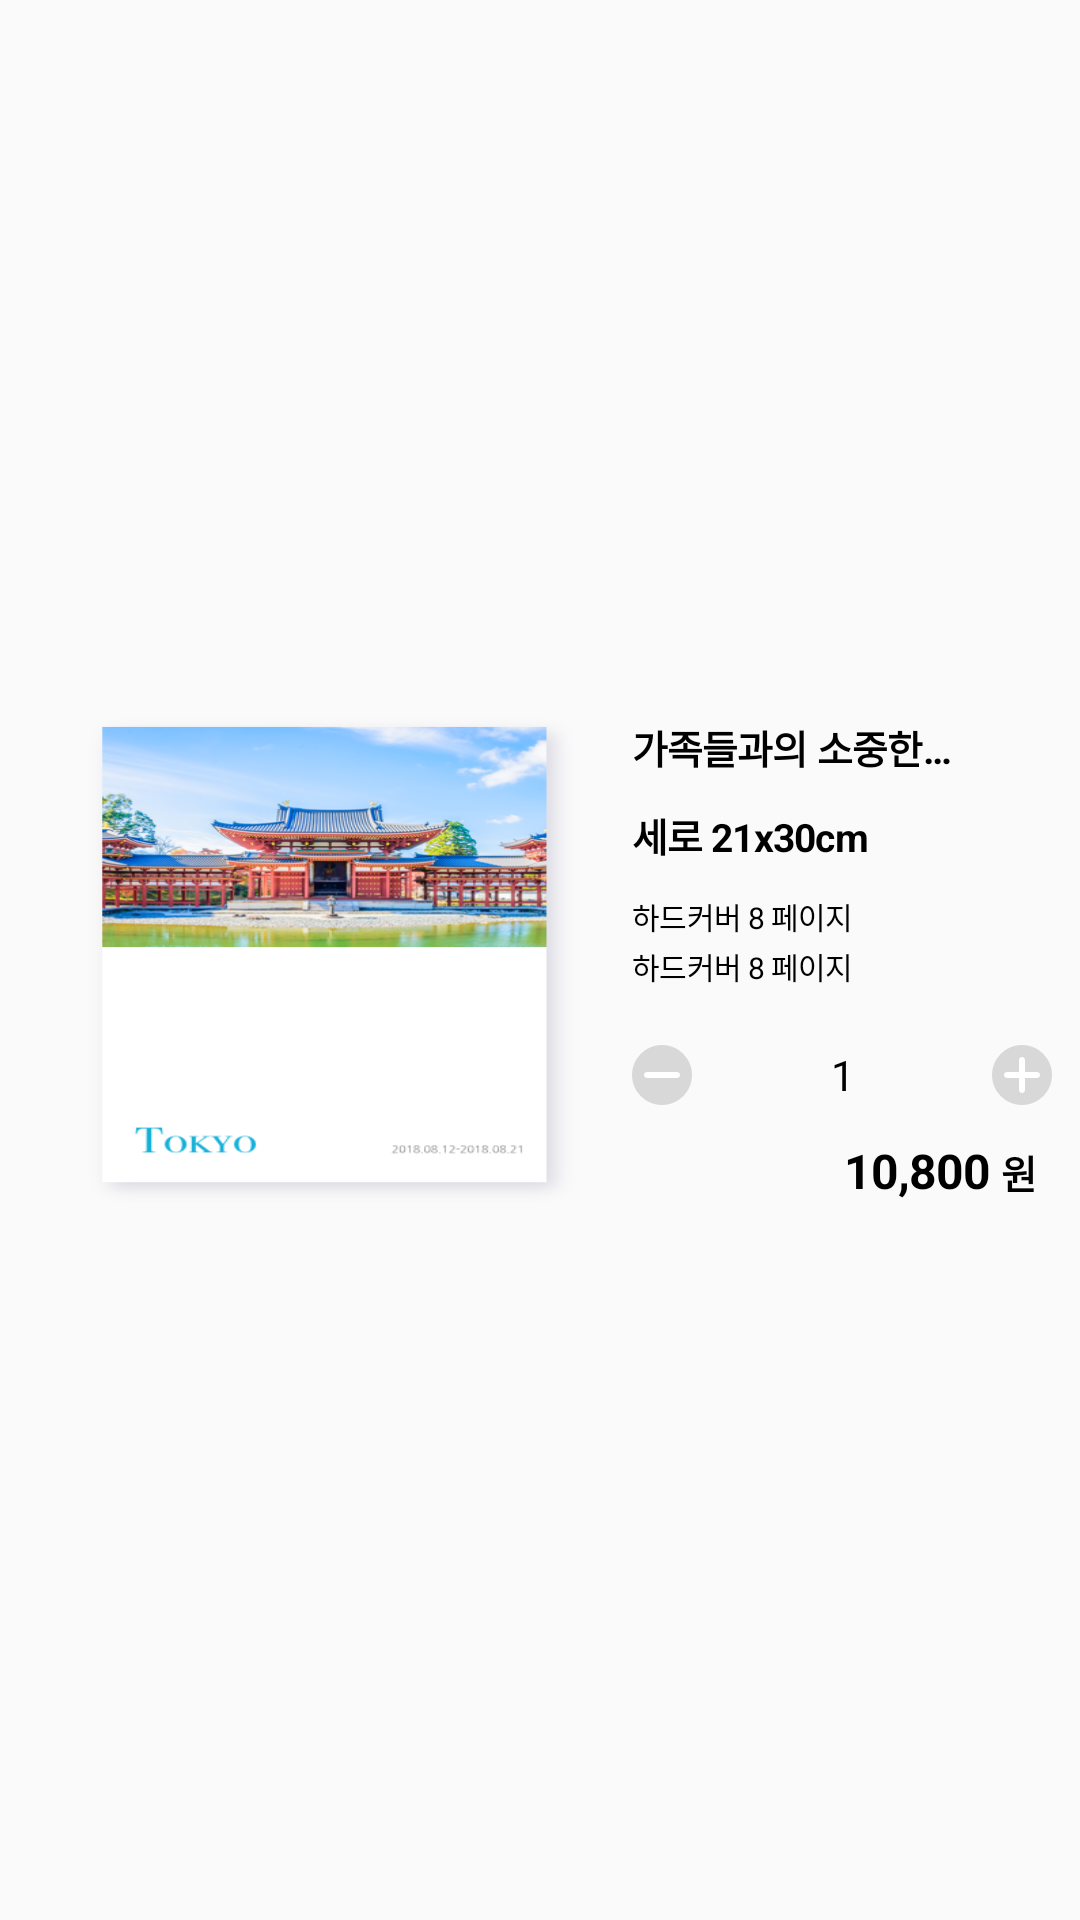

Named icons in this screenshot (1080px x 1920px) and their centers, [x,y]:
item minus: [662,1075]
item plus: [1022,1075]
